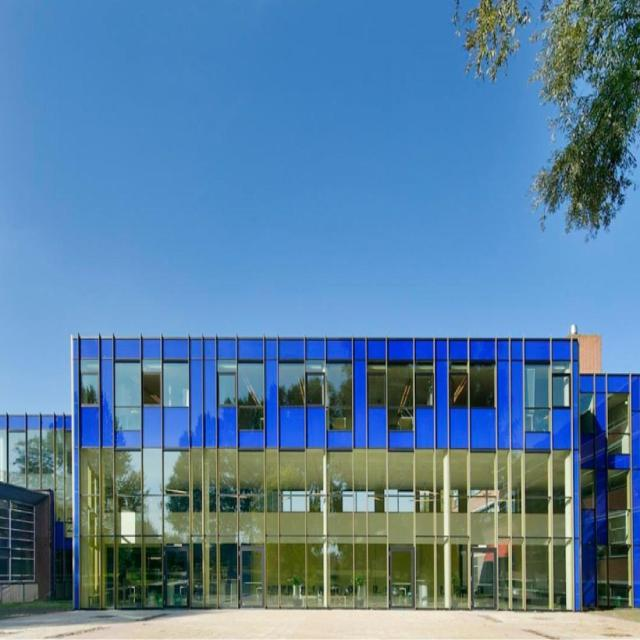door: (470, 544, 497, 609), (237, 543, 264, 608), (389, 545, 415, 610), (163, 545, 189, 610)
window: (80, 447, 576, 610), (2, 430, 72, 595), (114, 358, 192, 432), (280, 358, 353, 431), (595, 468, 632, 609), (369, 362, 432, 433), (219, 361, 265, 428), (525, 364, 570, 431), (446, 363, 495, 407), (607, 391, 631, 453), (80, 358, 100, 406), (580, 393, 592, 435), (583, 467, 594, 512)
